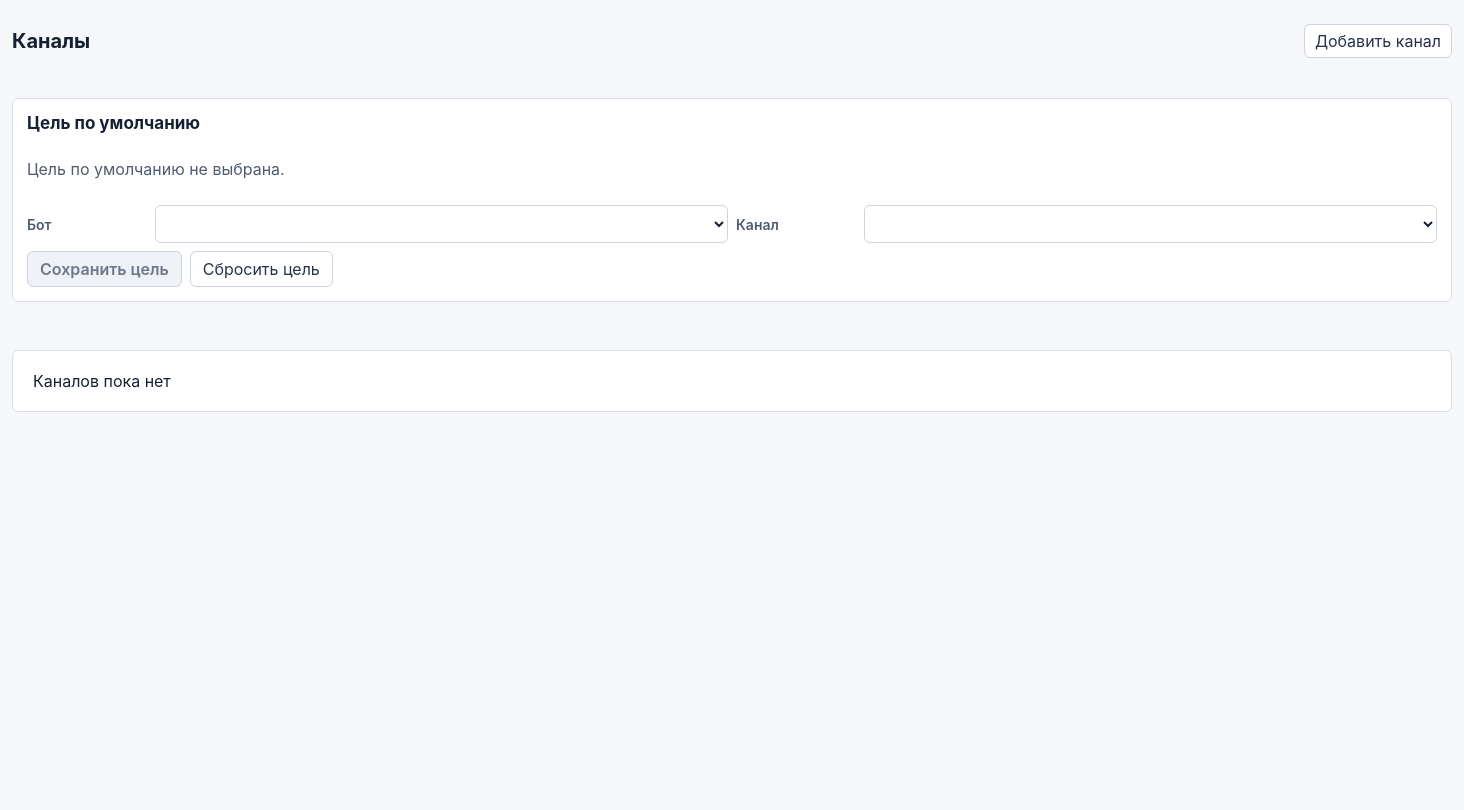
Test: TargetsPage › keeps channel search closed until add channel is clicked
Expected: the heading "Каналы" is shown, [12,29,90,53]
Expected: the search field labelled "Поиск канала" is not shown
Click the button "Добавить канал" at (1378, 41), box [1304,24,1452,58]
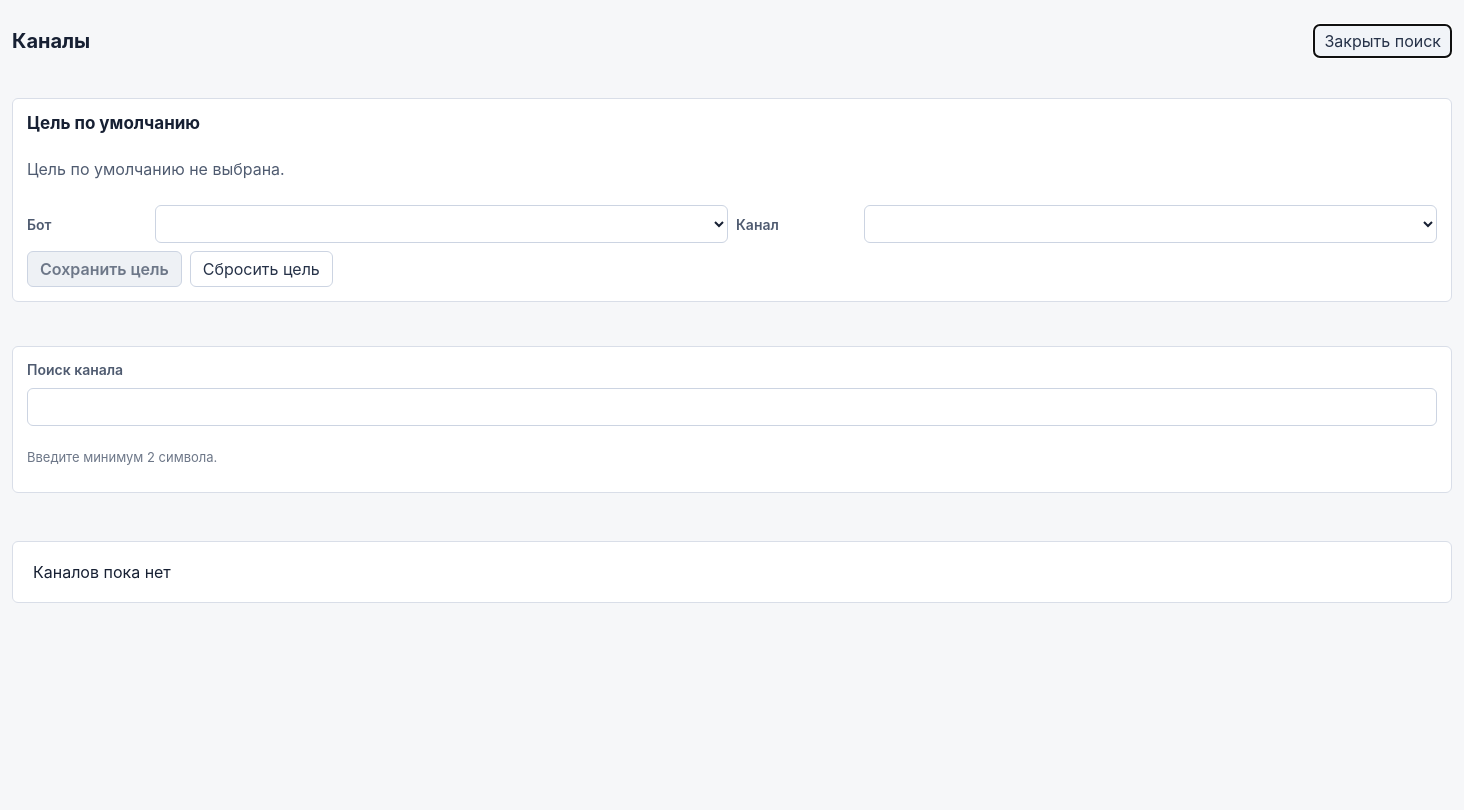
Now the search field labelled "Поиск канала" is shown, box [27,388,1437,426]
Now the button "Закрыть поиск" is shown, box [1314,24,1452,58]
